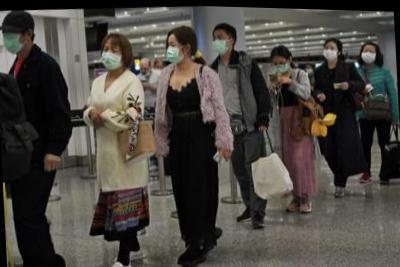OK: (1, 25, 26, 54), (101, 43, 124, 70), (167, 37, 185, 64), (213, 31, 231, 55), (361, 45, 378, 62), (273, 57, 291, 72), (324, 42, 340, 58), (306, 64, 314, 72)
WRONG: (140, 64, 152, 77)
